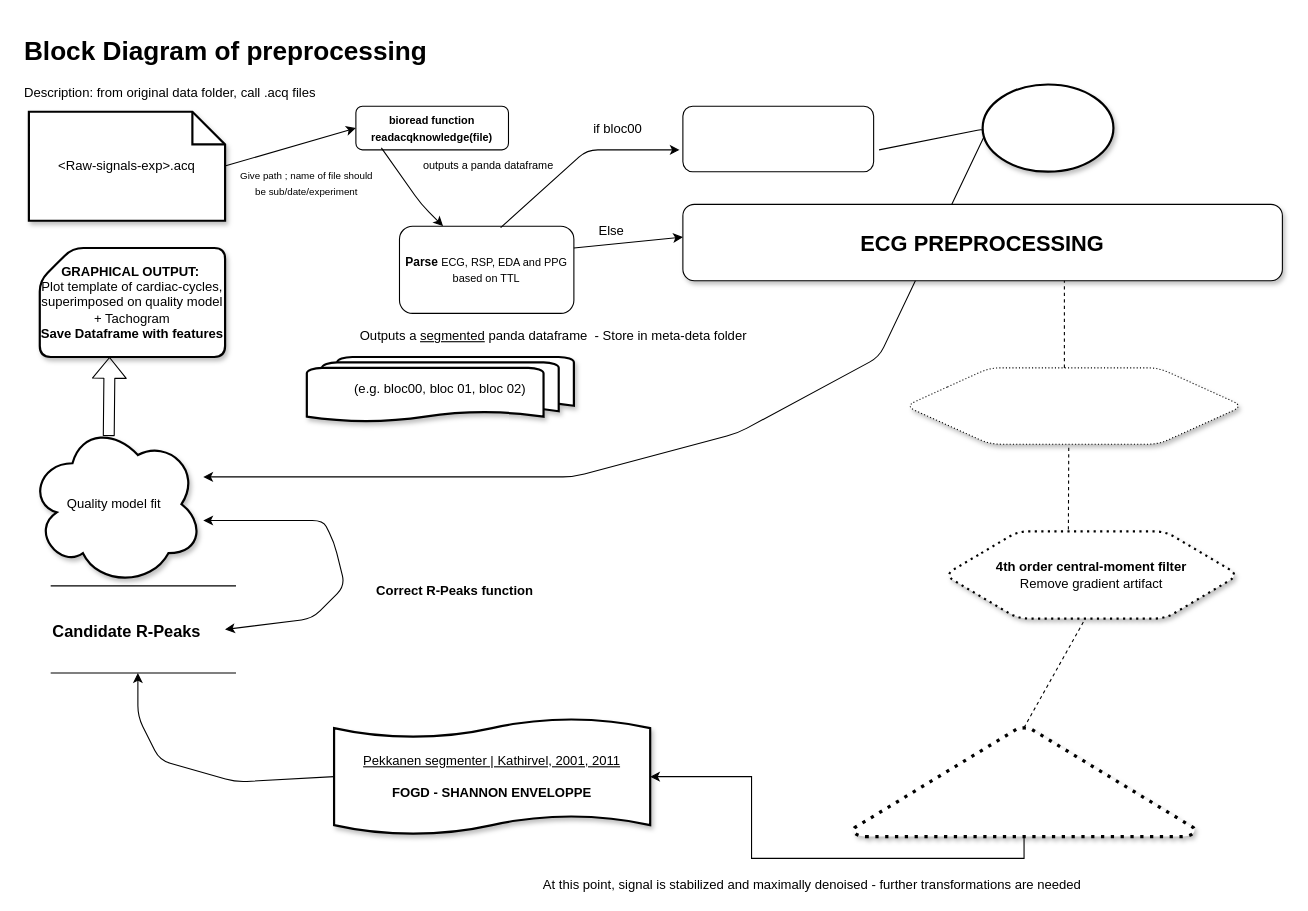
Image size: 1308x911. Some labels were removed from this diagram. Here are the shapes that lost their labels. From the top down, the centre of each, then its label:
(x=778, y=138): extract template and add to Cardiac_Cycles dataframe, i.e. quality model
(x=1049, y=129): sklearn fn QUALITY-MODEL
(x=1075, y=407): Linear interpolation for large and instantaneous amplitude modulation
(x=1024, y=783): Bandpass filter [3, 45]Hz
